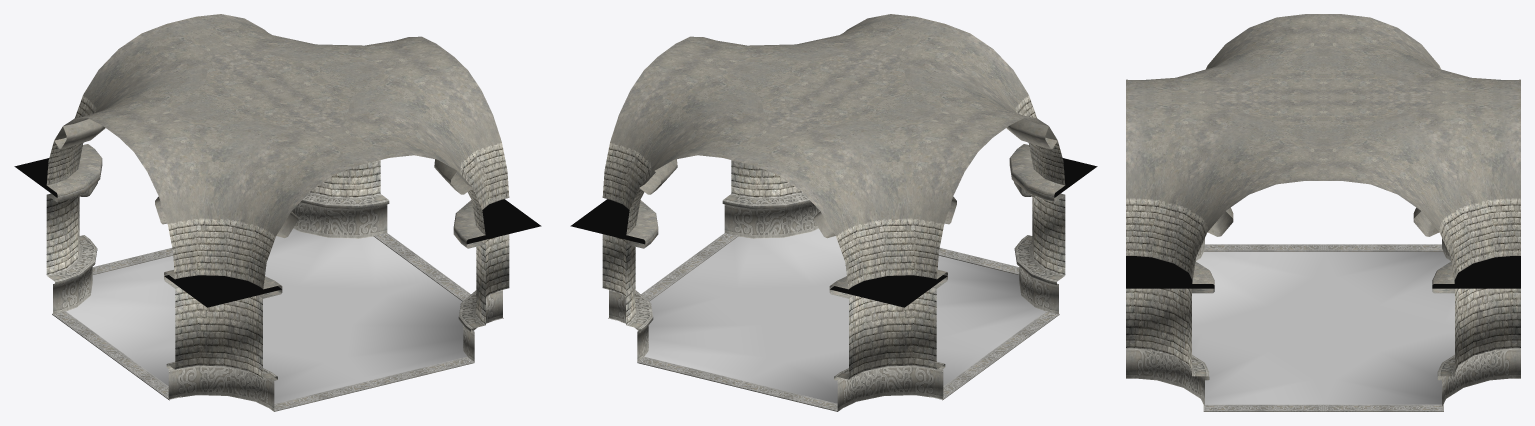
Rendered from dungeon_Modelling Tile_05.fbx.
3 views of the same model, side by side, from view 1: azimuth 30°, elevation 25°; view 2: azimuth 150°, elevation 25°; view 3: azimuth 270°, elevation 25° (orthographic). The views are drawn at different scales.
Visible parts, largest first — view 1: dungeon_Tile_05_Left_Roof2, dungeon_Tile_05_Right_Roof, dungeon_Tile_05_Left_Wall, dungeon_Tile_05_Right_Wall, dungeon_Tile_05_Front_Left_Roof, dungeon_Tile_05_Front_Right_Wall, dungeon_Tile_05_Front_Left_Wall, dungeon_Tile_05_Front_Right_Roof; view 2: dungeon_Tile_05_Front_Left_Roof, dungeon_Tile_05_Front_Right_Roof, dungeon_Tile_05_Front_Left_Wall, dungeon_Tile_05_Front_Right_Wall, dungeon_Tile_05_Left_Roof2, dungeon_Tile_05_Right_Wall, dungeon_Tile_05_Left_Wall, dungeon_Tile_05_Right_Roof; view 3: dungeon_Tile_05_Front_Right_Roof, dungeon_Tile_05_Right_Roof, dungeon_Tile_05_Front_Right_Wall, dungeon_Tile_05_Right_Wall, dungeon_Tile_05_Front_Left_Wall, dungeon_Tile_05_Left_Wall, dungeon_Tile_05_Front_Left_Roof, dungeon_Tile_05_Left_Roof2.
Boxes of the visible parts, x1=… form: dungeon_Tile_05_Left_Roof2: x1=111, y1=91, x2=373, y2=289; dungeon_Tile_05_Right_Roof: x1=278, y1=50, x2=509, y2=243; dungeon_Tile_05_Left_Wall: x1=111, y1=275, x2=374, y2=411; dungeon_Tile_05_Right_Wall: x1=278, y1=199, x2=541, y2=387; dungeon_Tile_05_Front_Left_Roof: x1=46, y1=20, x2=277, y2=197; dungeon_Tile_05_Front_Right_Wall: x1=263, y1=160, x2=444, y2=316; dungeon_Tile_05_Front_Left_Wall: x1=14, y1=158, x2=277, y2=357; dungeon_Tile_05_Front_Right_Roof: x1=182, y1=14, x2=444, y2=90; dungeon_Tile_05_Front_Left_Roof: x1=738, y1=91, x2=1000, y2=289; dungeon_Tile_05_Front_Right_Roof: x1=602, y1=50, x2=833, y2=243; dungeon_Tile_05_Front_Left_Wall: x1=737, y1=275, x2=1000, y2=411; dungeon_Tile_05_Front_Right_Wall: x1=570, y1=199, x2=833, y2=387; dungeon_Tile_05_Left_Roof2: x1=834, y1=20, x2=1065, y2=197; dungeon_Tile_05_Right_Wall: x1=667, y1=160, x2=848, y2=316; dungeon_Tile_05_Left_Wall: x1=834, y1=158, x2=1097, y2=357; dungeon_Tile_05_Right_Roof: x1=667, y1=14, x2=929, y2=90; dungeon_Tile_05_Front_Right_Roof: x1=1323, y1=97, x2=1520, y2=284; dungeon_Tile_05_Right_Roof: x1=1126, y1=97, x2=1323, y2=284; dungeon_Tile_05_Front_Right_Wall: x1=1323, y1=256, x2=1520, y2=411; dungeon_Tile_05_Right_Wall: x1=1126, y1=256, x2=1323, y2=411; dungeon_Tile_05_Front_Left_Wall: x1=1323, y1=238, x2=1454, y2=328; dungeon_Tile_05_Left_Wall: x1=1192, y1=238, x2=1323, y2=328; dungeon_Tile_05_Front_Left_Roof: x1=1323, y1=14, x2=1520, y2=97; dungeon_Tile_05_Left_Roof2: x1=1126, y1=14, x2=1323, y2=97.
Size of the model in its own units: 90 by 58.13 by 90.
